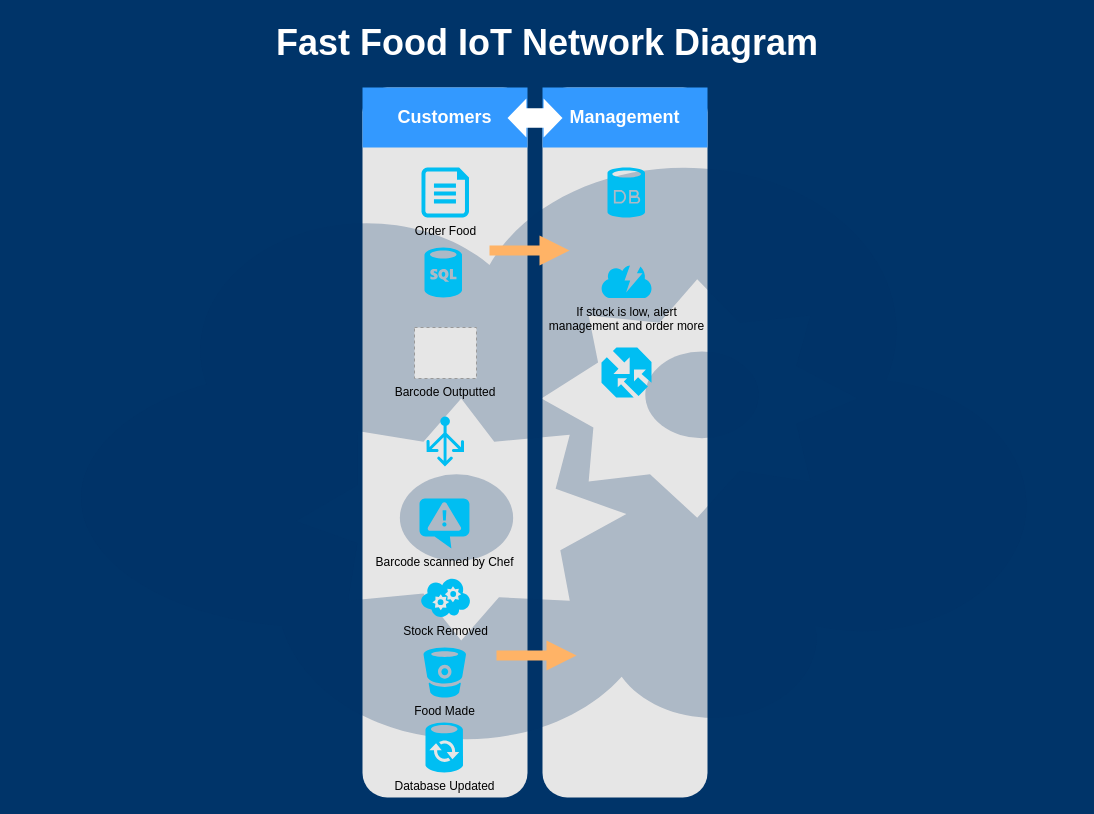
This 1094x814 diagram has some shape labels left out. Grey dashed boxes stand in for pictures. Here are the shapes that lost their labels. From the top down, the box of each, then its label:
(607, 167, 644, 217): Database Queried every 5 minutes
(424, 247, 462, 297): Database Queried
(601, 347, 651, 397): Save all orders that are made for reference and to improve UX
(426, 416, 464, 466): Barcode taken to Chef
